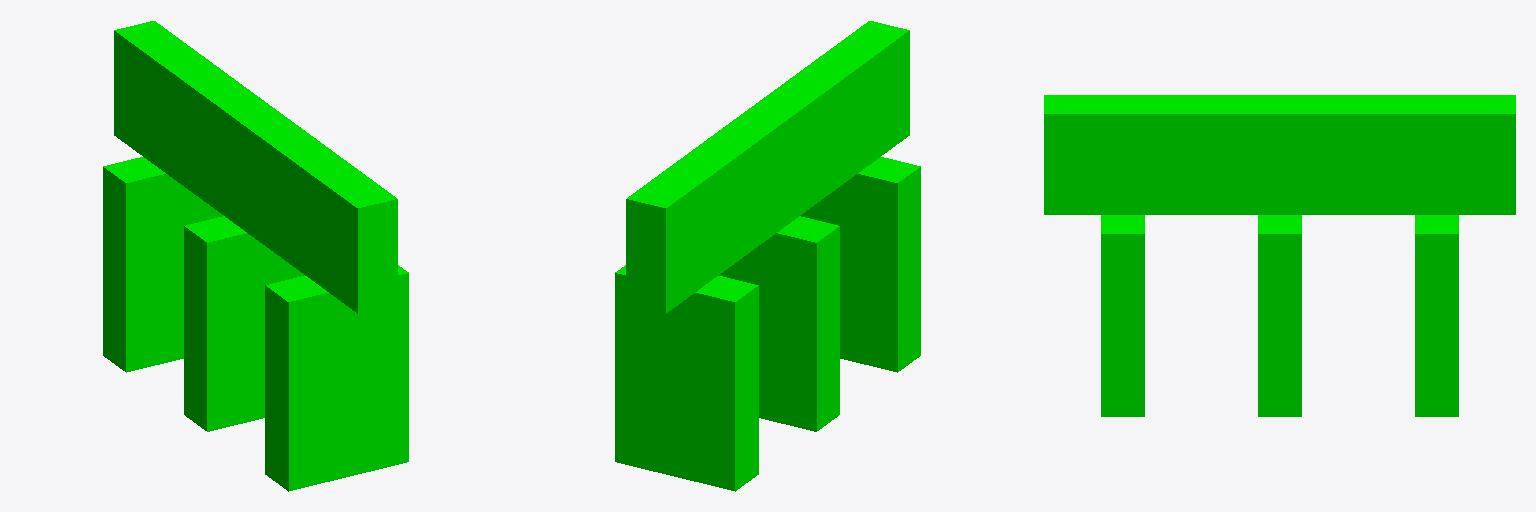
URDF robot description (robot):
<robot name = "robot">
    <link name="root">
        <inertial>
            <origin xyz="0.0 0.0 1.5" rpy="0 0 0"/>
            <mass value="1" />
            <inertia ixx="100" ixy="0" ixz="0" iyy="100" iyz="0" izz="100" />
        </inertial>
        <visual>
            <origin xyz="0.0 0.0 1.5" rpy="0 0 0"/>
            <geometry>
                <box size="0 0 0.0001" />
            </geometry>
            <material name="Green">
                <color rgba="0 1.0 0.0 1.0"/>
            </material>
        </visual>
        <collision>
            <origin xyz="0.0 0.0 1.5" rpy="0 0 0"/>
            <geometry>
                <box size="0 0 0.0001" />
            </geometry>
        </collision>
    </link>
    <joint name="root_000" type="revolute">
       <parent link="root"/>
       <child  link="000"/>
       <origin rpy="0 0 0" xyz="0.0 0.0 1.5" />
     <axis xyz="1 0 0"/>
       <limit effort="0.0" lower="-3.14159" upper="3.14159" velocity="0.0"/>
    </joint>
    <link name="000">
        <inertial>
            <origin xyz="0.0 0.35 0.0" rpy="0 0 0"/>
            <mass value="1" />
            <inertia ixx="100" ixy="0" ixz="0" iyy="100" iyz="0" izz="100" />
        </inertial>
        <visual>
            <origin xyz="0.0 0.35 0.0" rpy="0 0 0"/>
            <geometry>
                <box size="0.2 0.7 0.5" />
            </geometry>
            <material name="Green">
                <color rgba="0 1.0 0.0 1.0"/>
            </material>
        </visual>
        <collision>
            <origin xyz="0.0 0.35 0.0" rpy="0 0 0"/>
            <geometry>
                <box size="0.2 0.7 0.5" />
            </geometry>
        </collision>
    </link>
    <joint name="000_010" type="revolute">
       <parent link="000"/>
       <child  link="010"/>
       <origin rpy="0 0 0" xyz="0.0 0.7 -0.0" />
     <axis xyz="0 1 0"/>
       <limit effort="0.0" lower="-3.14159" upper="3.14159" velocity="0.0"/>
    </joint>
    <link name="010">
        <inertial>
            <origin xyz="0.0 0.35 -0.0" rpy="0 0 0"/>
            <mass value="1" />
            <inertia ixx="100" ixy="0" ixz="0" iyy="100" iyz="0" izz="100" />
        </inertial>
        <visual>
            <origin xyz="0.0 0.35 -0.0" rpy="0 0 0"/>
            <geometry>
                <box size="0.2 0.7 0.5" />
            </geometry>
            <material name="Green">
                <color rgba="0 1.0 0.0 1.0"/>
            </material>
        </visual>
        <collision>
            <origin xyz="0.0 0.35 -0.0" rpy="0 0 0"/>
            <geometry>
                <box size="0.2 0.7 0.5" />
            </geometry>
        </collision>
    </link>
    <joint name="010_020" type="revolute">
       <parent link="010"/>
       <child  link="020"/>
       <origin rpy="0 0 0" xyz="0.0 0.7 -0.0" />
     <axis xyz="0 1 0"/>
       <limit effort="0.0" lower="-3.14159" upper="3.14159" velocity="0.0"/>
    </joint>
    <link name="020">
        <inertial>
            <origin xyz="0.0 0.35 -0.0" rpy="0 0 0"/>
            <mass value="1" />
            <inertia ixx="100" ixy="0" ixz="0" iyy="100" iyz="0" izz="100" />
        </inertial>
        <visual>
            <origin xyz="0.0 0.35 -0.0" rpy="0 0 0"/>
            <geometry>
                <box size="0.2 0.7 0.5" />
            </geometry>
            <material name="Green">
                <color rgba="0 1.0 0.0 1.0"/>
            </material>
        </visual>
        <collision>
            <origin xyz="0.0 0.35 -0.0" rpy="0 0 0"/>
            <geometry>
                <box size="0.2 0.7 0.5" />
            </geometry>
        </collision>
    </link>
    <joint name="020_020-100" type="revolute">
       <parent link="020"/>
       <child  link="020-100"/>
       <origin rpy="0 0 0" xyz="0.0 0.35 -0.25" />
     <axis xyz="0 0 1"/>
       <limit effort="0.0" lower="-3.14159" upper="3.14159" velocity="0.0"/>
    </joint>
    <link name="020-100">
        <inertial>
            <origin xyz="0.0 0.0 -0.15" rpy="0 0 0"/>
            <mass value="1" />
            <inertia ixx="100" ixy="0" ixz="0" iyy="100" iyz="0" izz="100" />
        </inertial>
        <visual>
            <origin xyz="0.0 0.0 -0.15" rpy="0 0 0"/>
            <geometry>
                <box size="0.6 0.2 0.3" />
            </geometry>
            <material name="Green">
                <color rgba="0 1.0 0.0 1.0"/>
            </material>
        </visual>
        <collision>
            <origin xyz="0.0 0.0 -0.15" rpy="0 0 0"/>
            <geometry>
                <box size="0.6 0.2 0.3" />
            </geometry>
        </collision>
    </link>
    <joint name="020-100_020-110" type="revolute">
       <parent link="020-100"/>
       <child  link="020-110"/>
       <origin rpy="0 0 0" xyz="0.0 0.0 -0.3" />
     <axis xyz="0 0 1"/>
       <limit effort="0.0" lower="-3.14159" upper="3.14159" velocity="0.0"/>
    </joint>
    <link name="020-110">
        <inertial>
            <origin xyz="0.0 0.0 -0.15" rpy="0 0 0"/>
            <mass value="1" />
            <inertia ixx="100" ixy="0" ixz="0" iyy="100" iyz="0" izz="100" />
        </inertial>
        <visual>
            <origin xyz="0.0 0.0 -0.15" rpy="0 0 0"/>
            <geometry>
                <box size="0.6 0.2 0.3" />
            </geometry>
            <material name="Green">
                <color rgba="0 1.0 0.0 1.0"/>
            </material>
        </visual>
        <collision>
            <origin xyz="0.0 0.0 -0.15" rpy="0 0 0"/>
            <geometry>
                <box size="0.6 0.2 0.3" />
            </geometry>
        </collision>
    </link>
    <joint name="020-110_020-120" type="revolute">
       <parent link="020-110"/>
       <child  link="020-120"/>
       <origin rpy="0 0 0" xyz="0.0 0.0 -0.3" />
     <axis xyz="0 0 1"/>
       <limit effort="0.0" lower="-3.14159" upper="3.14159" velocity="0.0"/>
    </joint>
    <link name="020-120">
        <inertial>
            <origin xyz="0.0 0.0 -0.15" rpy="0 0 0"/>
            <mass value="1" />
            <inertia ixx="100" ixy="0" ixz="0" iyy="100" iyz="0" izz="100" />
        </inertial>
        <visual>
            <origin xyz="0.0 0.0 -0.15" rpy="0 0 0"/>
            <geometry>
                <box size="0.6 0.2 0.3" />
            </geometry>
            <material name="Green">
                <color rgba="0 1.0 0.0 1.0"/>
            </material>
        </visual>
        <collision>
            <origin xyz="0.0 0.0 -0.15" rpy="0 0 0"/>
            <geometry>
                <box size="0.6 0.2 0.3" />
            </geometry>
        </collision>
    </link>
    <joint name="010_010-100" type="revolute">
       <parent link="010"/>
       <child  link="010-100"/>
       <origin rpy="0 0 0" xyz="0.0 0.35 -0.25" />
     <axis xyz="0 0 1"/>
       <limit effort="0.0" lower="-3.14159" upper="3.14159" velocity="0.0"/>
    </joint>
    <link name="010-100">
        <inertial>
            <origin xyz="0.0 0.0 -0.15" rpy="0 0 0"/>
            <mass value="1" />
            <inertia ixx="100" ixy="0" ixz="0" iyy="100" iyz="0" izz="100" />
        </inertial>
        <visual>
            <origin xyz="0.0 0.0 -0.15" rpy="0 0 0"/>
            <geometry>
                <box size="0.6 0.2 0.3" />
            </geometry>
            <material name="Green">
                <color rgba="0 1.0 0.0 1.0"/>
            </material>
        </visual>
        <collision>
            <origin xyz="0.0 0.0 -0.15" rpy="0 0 0"/>
            <geometry>
                <box size="0.6 0.2 0.3" />
            </geometry>
        </collision>
    </link>
    <joint name="010-100_010-110" type="revolute">
       <parent link="010-100"/>
       <child  link="010-110"/>
       <origin rpy="0 0 0" xyz="0.0 0.0 -0.3" />
     <axis xyz="0 0 1"/>
       <limit effort="0.0" lower="-3.14159" upper="3.14159" velocity="0.0"/>
    </joint>
    <link name="010-110">
        <inertial>
            <origin xyz="0.0 0.0 -0.15" rpy="0 0 0"/>
            <mass value="1" />
            <inertia ixx="100" ixy="0" ixz="0" iyy="100" iyz="0" izz="100" />
        </inertial>
        <visual>
            <origin xyz="0.0 0.0 -0.15" rpy="0 0 0"/>
            <geometry>
                <box size="0.6 0.2 0.3" />
            </geometry>
            <material name="Green">
                <color rgba="0 1.0 0.0 1.0"/>
            </material>
        </visual>
        <collision>
            <origin xyz="0.0 0.0 -0.15" rpy="0 0 0"/>
            <geometry>
                <box size="0.6 0.2 0.3" />
            </geometry>
        </collision>
    </link>
    <joint name="010-110_010-120" type="revolute">
       <parent link="010-110"/>
       <child  link="010-120"/>
       <origin rpy="0 0 0" xyz="0.0 0.0 -0.3" />
     <axis xyz="0 0 1"/>
       <limit effort="0.0" lower="-3.14159" upper="3.14159" velocity="0.0"/>
    </joint>
    <link name="010-120">
        <inertial>
            <origin xyz="0.0 0.0 -0.15" rpy="0 0 0"/>
            <mass value="1" />
            <inertia ixx="100" ixy="0" ixz="0" iyy="100" iyz="0" izz="100" />
        </inertial>
        <visual>
            <origin xyz="0.0 0.0 -0.15" rpy="0 0 0"/>
            <geometry>
                <box size="0.6 0.2 0.3" />
            </geometry>
            <material name="Green">
                <color rgba="0 1.0 0.0 1.0"/>
            </material>
        </visual>
        <collision>
            <origin xyz="0.0 0.0 -0.15" rpy="0 0 0"/>
            <geometry>
                <box size="0.6 0.2 0.3" />
            </geometry>
        </collision>
    </link>
    <joint name="000_000-100" type="revolute">
       <parent link="000"/>
       <child  link="000-100"/>
       <origin rpy="0 0 0" xyz="0.0 0.35 -0.25" />
     <axis xyz="0 0 1"/>
       <limit effort="0.0" lower="-3.14159" upper="3.14159" velocity="0.0"/>
    </joint>
    <link name="000-100">
        <inertial>
            <origin xyz="0.0 0.0 -0.15" rpy="0 0 0"/>
            <mass value="1" />
            <inertia ixx="100" ixy="0" ixz="0" iyy="100" iyz="0" izz="100" />
        </inertial>
        <visual>
            <origin xyz="0.0 0.0 -0.15" rpy="0 0 0"/>
            <geometry>
                <box size="0.6 0.2 0.3" />
            </geometry>
            <material name="Green">
                <color rgba="0 1.0 0.0 1.0"/>
            </material>
        </visual>
        <collision>
            <origin xyz="0.0 0.0 -0.15" rpy="0 0 0"/>
            <geometry>
                <box size="0.6 0.2 0.3" />
            </geometry>
        </collision>
    </link>
    <joint name="000-100_000-110" type="revolute">
       <parent link="000-100"/>
       <child  link="000-110"/>
       <origin rpy="0 0 0" xyz="0.0 0.0 -0.3" />
     <axis xyz="0 0 1"/>
       <limit effort="0.0" lower="-3.14159" upper="3.14159" velocity="0.0"/>
    </joint>
    <link name="000-110">
        <inertial>
            <origin xyz="0.0 0.0 -0.15" rpy="0 0 0"/>
            <mass value="1" />
            <inertia ixx="100" ixy="0" ixz="0" iyy="100" iyz="0" izz="100" />
        </inertial>
        <visual>
            <origin xyz="0.0 0.0 -0.15" rpy="0 0 0"/>
            <geometry>
                <box size="0.6 0.2 0.3" />
            </geometry>
            <material name="Green">
                <color rgba="0 1.0 0.0 1.0"/>
            </material>
        </visual>
        <collision>
            <origin xyz="0.0 0.0 -0.15" rpy="0 0 0"/>
            <geometry>
                <box size="0.6 0.2 0.3" />
            </geometry>
        </collision>
    </link>
    <joint name="000-110_000-120" type="revolute">
       <parent link="000-110"/>
       <child  link="000-120"/>
       <origin rpy="0 0 0" xyz="0.0 0.0 -0.3" />
     <axis xyz="0 0 1"/>
       <limit effort="0.0" lower="-3.14159" upper="3.14159" velocity="0.0"/>
    </joint>
    <link name="000-120">
        <inertial>
            <origin xyz="0.0 0.0 -0.15" rpy="0 0 0"/>
            <mass value="1" />
            <inertia ixx="100" ixy="0" ixz="0" iyy="100" iyz="0" izz="100" />
        </inertial>
        <visual>
            <origin xyz="0.0 0.0 -0.15" rpy="0 0 0"/>
            <geometry>
                <box size="0.6 0.2 0.3" />
            </geometry>
            <material name="Green">
                <color rgba="0 1.0 0.0 1.0"/>
            </material>
        </visual>
        <collision>
            <origin xyz="0.0 0.0 -0.15" rpy="0 0 0"/>
            <geometry>
                <box size="0.6 0.2 0.3" />
            </geometry>
        </collision>
    </link>
</robot>

--- Facts derived from the render (not from the file) ---
Views: 3 orthographic renders of the robot side by side, from view 1: azimuth 30°, elevation 25°; view 2: azimuth 150°, elevation 25°; view 3: azimuth 270°, elevation 25°.
Model robot with 13 links and 12 joints (12 revolute), rooted at root, posed every joint at zero.
Visible links, largest first — view 1: 000, 010, 020, 000-110, 000-120, 000-100, 010-100, 020-100, 020-110, 010-110, 010-120, 020-120; view 2: 020, 010, 000, 020-110, 020-120, 020-100, 010-100, 000-100, 010-110, 010-120, 000-110, 000-120; view 3: 010, 000, 020, 020-100, 010-100, 000-100, 020-110, 020-120, 010-110, 010-120, 000-110, 000-120.
Link boxes in pixels (x1,y1,x2,y2): 000: (277,139,397,313); 010: (195,80,315,253); 020: (114,21,234,193); 000-110: (265,336,408,427); 000-120: (265,399,408,491); 000-100: (265,265,408,364); 010-100: (184,216,304,305); 020-100: (103,157,223,245); 020-110: (103,230,183,308); 010-110: (184,289,264,368); 010-120: (184,352,264,431); 020-120: (103,293,183,372); 020: (626,139,746,313); 010: (708,80,828,253); 000: (789,21,909,193); 020-110: (615,336,758,427); 020-120: (615,399,758,491); 020-100: (615,265,758,364); 010-100: (719,216,839,305); 000-100: (800,157,920,245); 010-110: (759,289,839,368); 010-120: (759,352,839,431); 000-110: (840,230,920,308); 000-120: (840,293,920,372); 010: (1201,95,1358,214); 000: (1044,95,1200,214); 020: (1359,95,1515,214); 020-100: (1415,215,1458,294); 010-100: (1258,215,1301,294); 000-100: (1101,215,1144,294); 020-110: (1415,295,1458,355); 020-120: (1415,356,1458,416); 010-110: (1258,295,1301,355); 010-120: (1258,356,1301,416); 000-110: (1101,295,1144,355); 000-120: (1101,356,1144,416).
Bounding box of the posed robot: 0.6 × 2.1 × 1.4 m (x, y, z).
Geometry: primitives only (box / cylinder / sphere), no mesh files.